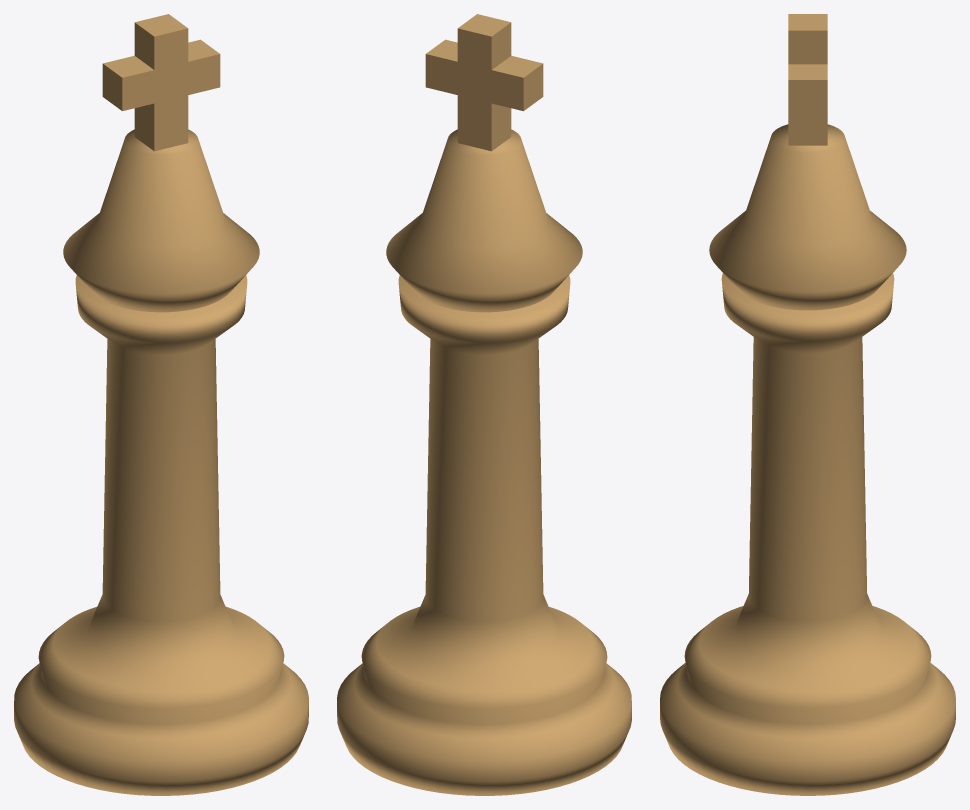
Rendered from king.glb.
The picture shows the model from 3 angles, left to right: view 1: azimuth 30°, elevation 25°; view 2: azimuth 150°, elevation 25°; view 3: azimuth 270°, elevation 25°; orthographic projection.
Bounding box in the file's own units: 1.2 × 3.2 × 1.2.
